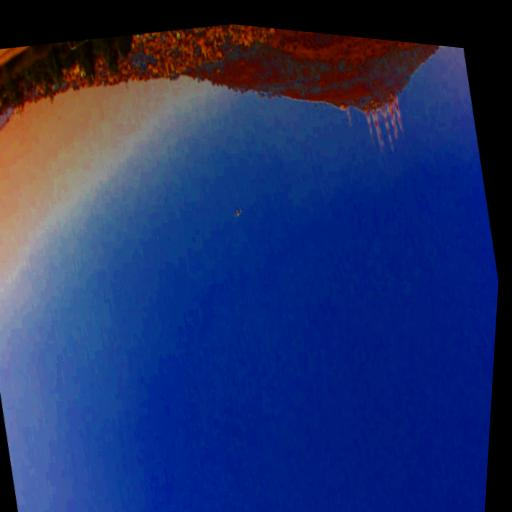drones: (232, 204, 244, 219)
